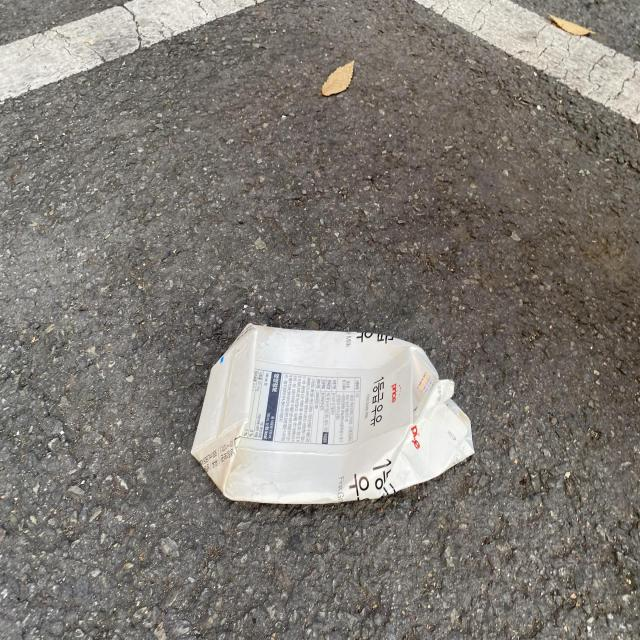paperpack: (191, 324, 475, 504)
